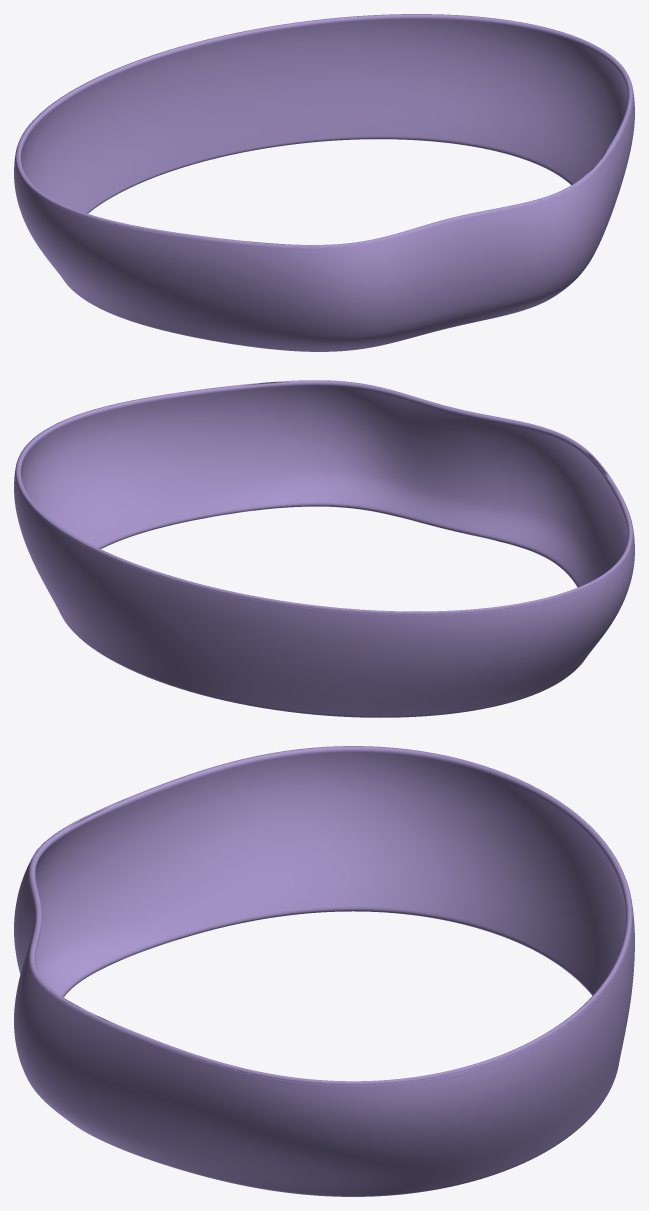
The model's file is Feminine-bandeau-top.glb.
The picture shows the model from 3 angles, top to bottom: view 1: azimuth 30°, elevation 25°; view 2: azimuth 150°, elevation 25°; view 3: azimuth 270°, elevation 25°; orthographic projection. The views are drawn at different scales.
Visible parts, largest first — view 1: Clothing / Bandeau, Bandeau stitched edge.001 export; view 2: Clothing / Bandeau, Bandeau stitched edge.001 export; view 3: Clothing / Bandeau, Bandeau stitched edge.001 export.
Boxes of the visible parts, x1,y1,x2,y2 form: Clothing / Bandeau: [14, 14, 634, 351]; Bandeau stitched edge.001 export: [15, 14, 633, 247]; Clothing / Bandeau: [14, 380, 634, 717]; Bandeau stitched edge.001 export: [15, 415, 633, 614]; Clothing / Bandeau: [14, 746, 634, 1196]; Bandeau stitched edge.001 export: [29, 746, 632, 1085].
Bounding box in the file's own units: 0.6884 × 0.1332 × 0.5324.
